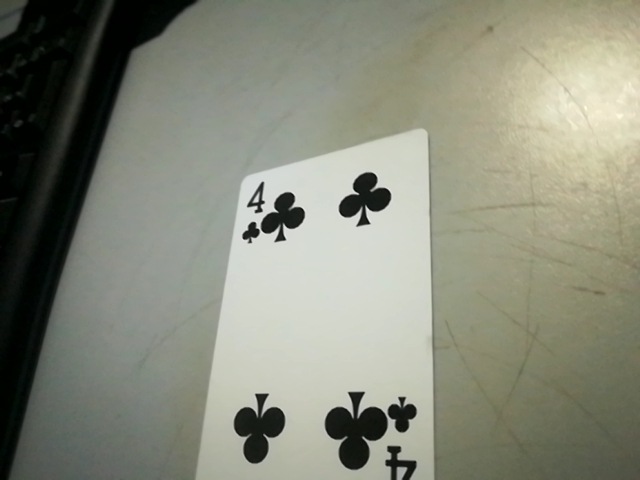mh 4: (227, 177, 272, 244)
